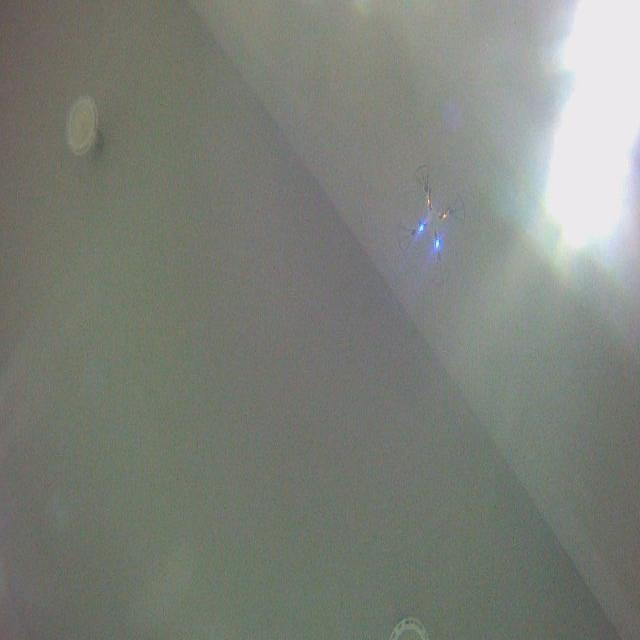drone: (397, 162, 467, 285)
